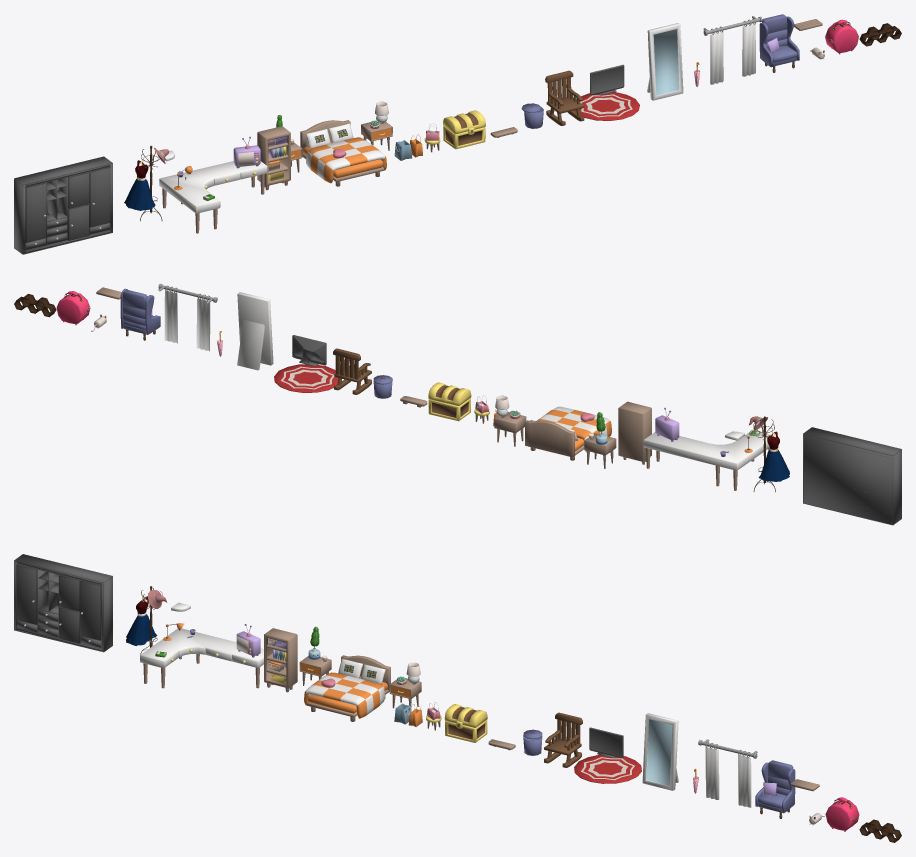
The model's file is Master_Room.fbx.
3 renders of one model, top to bottom at view 1: azimuth 30°, elevation 25°; view 2: azimuth 150°, elevation 25°; view 3: azimuth 330°, elevation 25°, orthographic.
Parts seen in each view (by area): view 1: wardrobe, Bed_1, Table_1, Mirror, Armchair_1, Chair_1, Carpet_1, Chest, Cabinet_1, Dress, TV1, SuitCase (+5 smaller); view 2: wardrobe, Table_1, Bed_1, Mirror, Cabinet_1, Carpet_1, Armchair_1, Chest, Chair_1, TV1, Dress, SuitCase (+6 smaller); view 3: wardrobe, Bed_1, Table_1, Mirror, Armchair_1, Carpet_1, Cabinet_1, Chair_1, Chest, TV1, SuitCase, Dress (+2 smaller).
Part boxes in pixels (x1,y1,x2,y2): wardrobe: (14,156,112,254); Bed_1: (300,120,386,186); Table_1: (159,161,267,233); Mirror: (647,23,683,100); Armchair_1: (759,14,799,72); Chair_1: (545,70,584,125); Carpet_1: (574,92,639,120); Chest: (443,110,485,149); Cabinet_1: (257,126,290,190); Dress: (124,160,155,210); TV1: (590,64,624,95); SuitCase: (825,19,858,54); wardrobe: (803,427,901,525); Table_1: (643,430,775,490); Bed_1: (525,406,611,460); Mirror: (237,292,273,370); Cabinet_1: (618,401,651,464); Carpet_1: (274,364,338,392); Armchair_1: (120,288,160,340); Chest: (428,382,471,421); Chair_1: (333,348,371,394); TV1: (292,335,326,366); Dress: (758,431,789,481); SuitCase: (56,291,90,325); wardrobe: (14,554,112,652); Bed_1: (304,655,390,721); Table_1: (140,628,263,688); Mirror: (642,713,678,790); Armchair_1: (755,760,795,818); Carpet_1: (574,755,641,783); Cabinet_1: (264,628,297,692); Chair_1: (544,712,582,767); Chest: (444,704,487,742); TV1: (589,727,623,758); SuitCase: (825,797,859,831); Dress: (126,596,157,645).
Size of the model in its own units: 3299 by 267 by 324.
